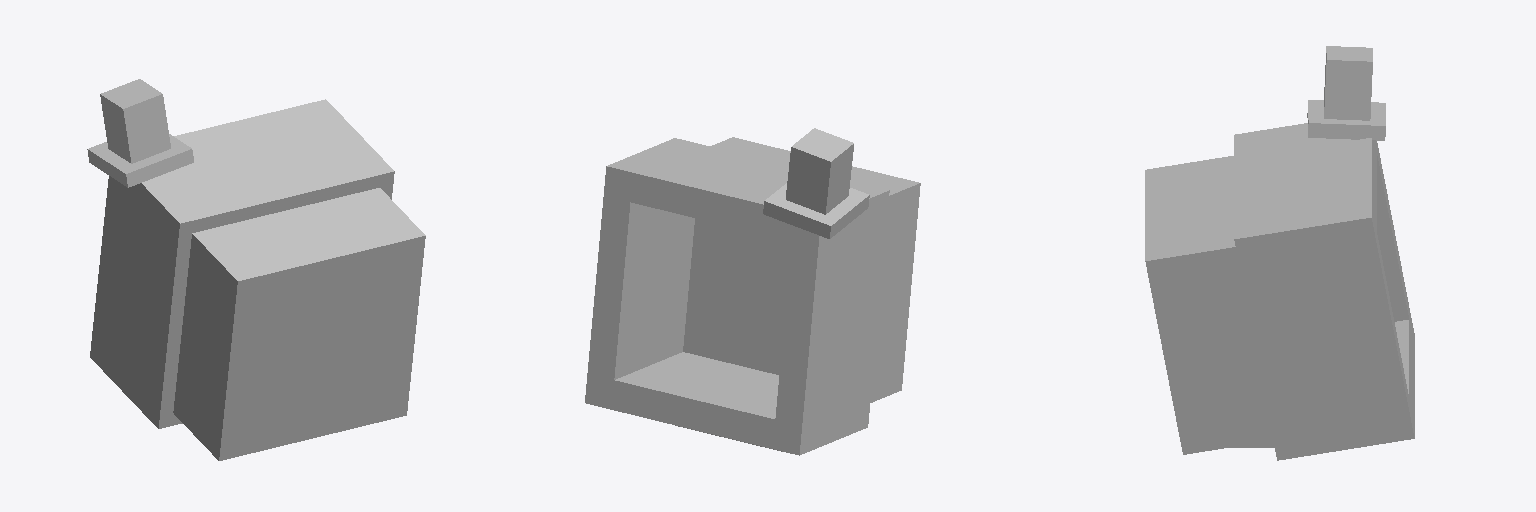
Rendered from Crt Body.obj.
3 views of the same model, side by side, from view 1: azimuth 30°, elevation 25°; view 2: azimuth 150°, elevation 25°; view 3: azimuth 270°, elevation 25° (orthographic).
Visible parts, largest first — view 1: cube; view 2: cube; view 3: cube.
Part boxes in pixels (x1,y1,x2,y2): cube: (87, 79, 425, 460); cube: (585, 128, 920, 455); cube: (1145, 46, 1414, 460).
Bounding box in the file's own units: 1.08 × 1.44 × 1.09.